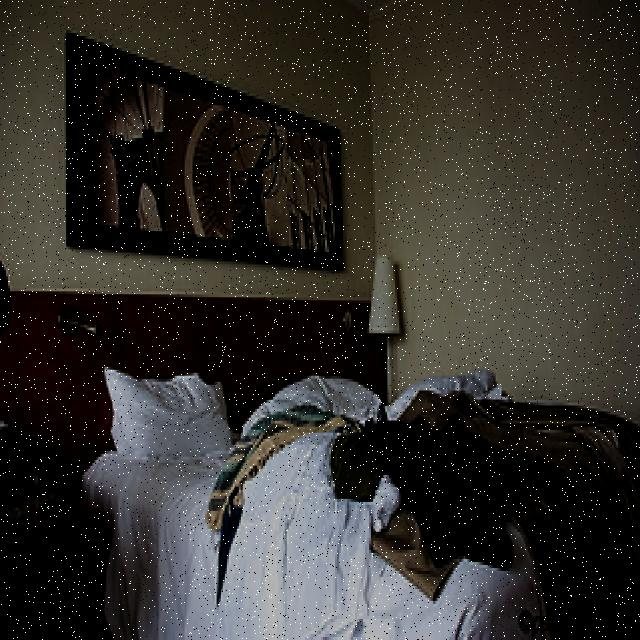bed: (90, 363, 640, 640)
